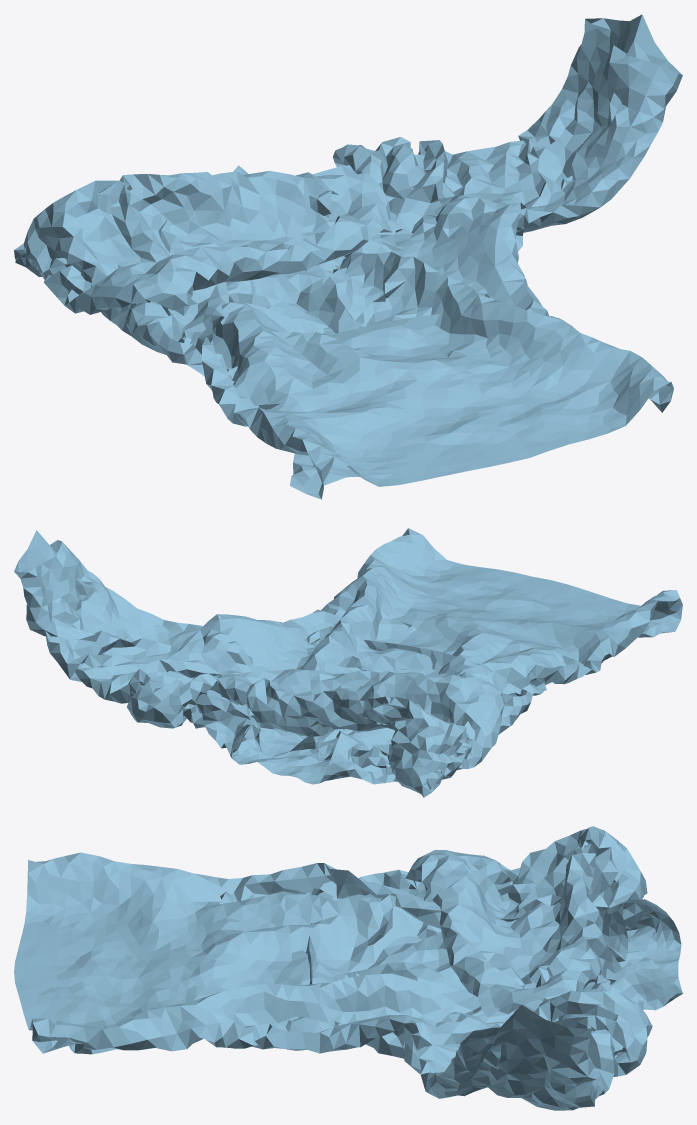
The model's file is frame_03.glb.
3 views of the same model, one above another, from view 1: azimuth 30°, elevation 25°; view 2: azimuth 150°, elevation 25°; view 3: azimuth 270°, elevation 25° (orthographic). The views are drawn at different scales.
Visible parts, largest first — view 1: frame_03.obj; view 2: frame_03.obj; view 3: frame_03.obj.
Boxes of the visible parts, <box> form: frame_03.obj: <box>14,14,682,499</box>; frame_03.obj: <box>14,528,682,797</box>; frame_03.obj: <box>14,826,682,1110</box>.
Bounding box in the file's own units: 1.43 × 0.3831 × 1.42.
